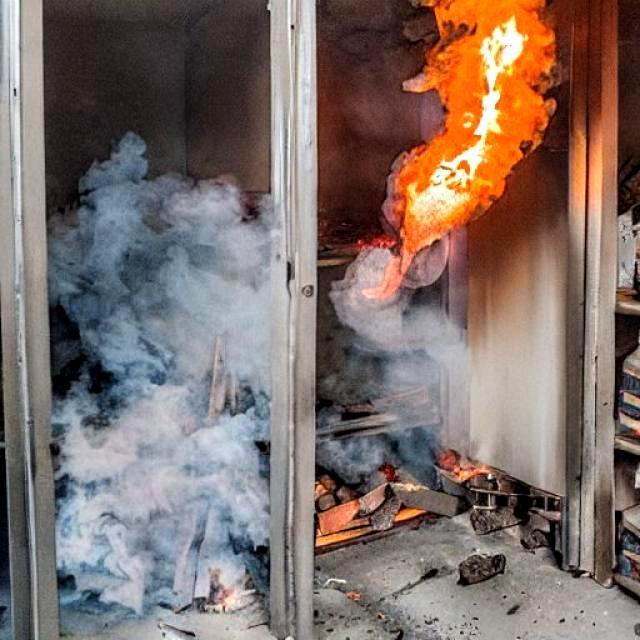Fire: (368, 0, 577, 238)
Smoke: (56, 156, 294, 611), (363, 266, 572, 493)
